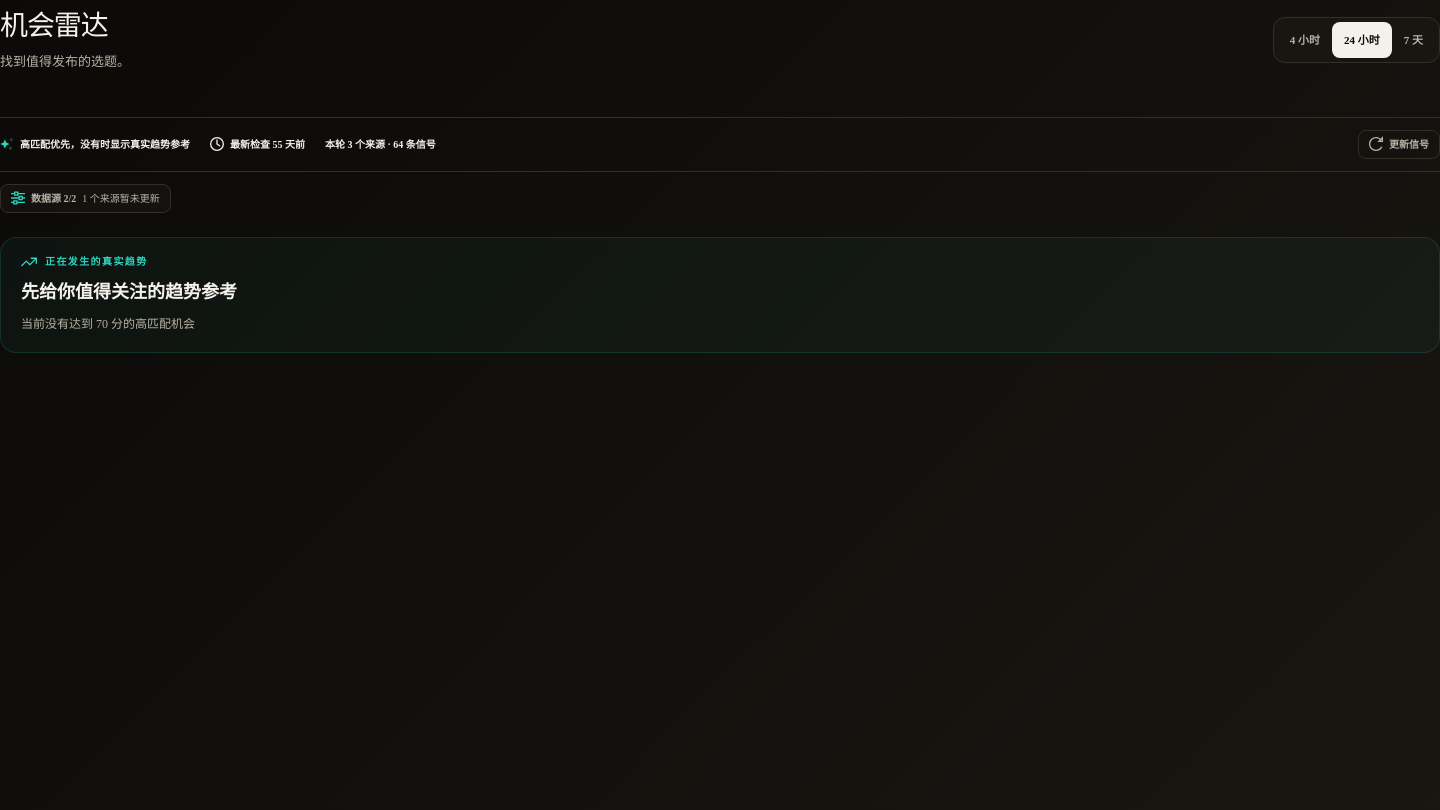
Test case: keeps usable results visible without re-collecting all sources after a partial outage
Expected: the text "1 个来源暂未更新" is shown, x1=82 y1=191 x2=160 y2=206
Click the heading "数据源 2/2 1 个来源暂未更新" at (85, 198), box x1=0 y1=184 x2=171 y2=213
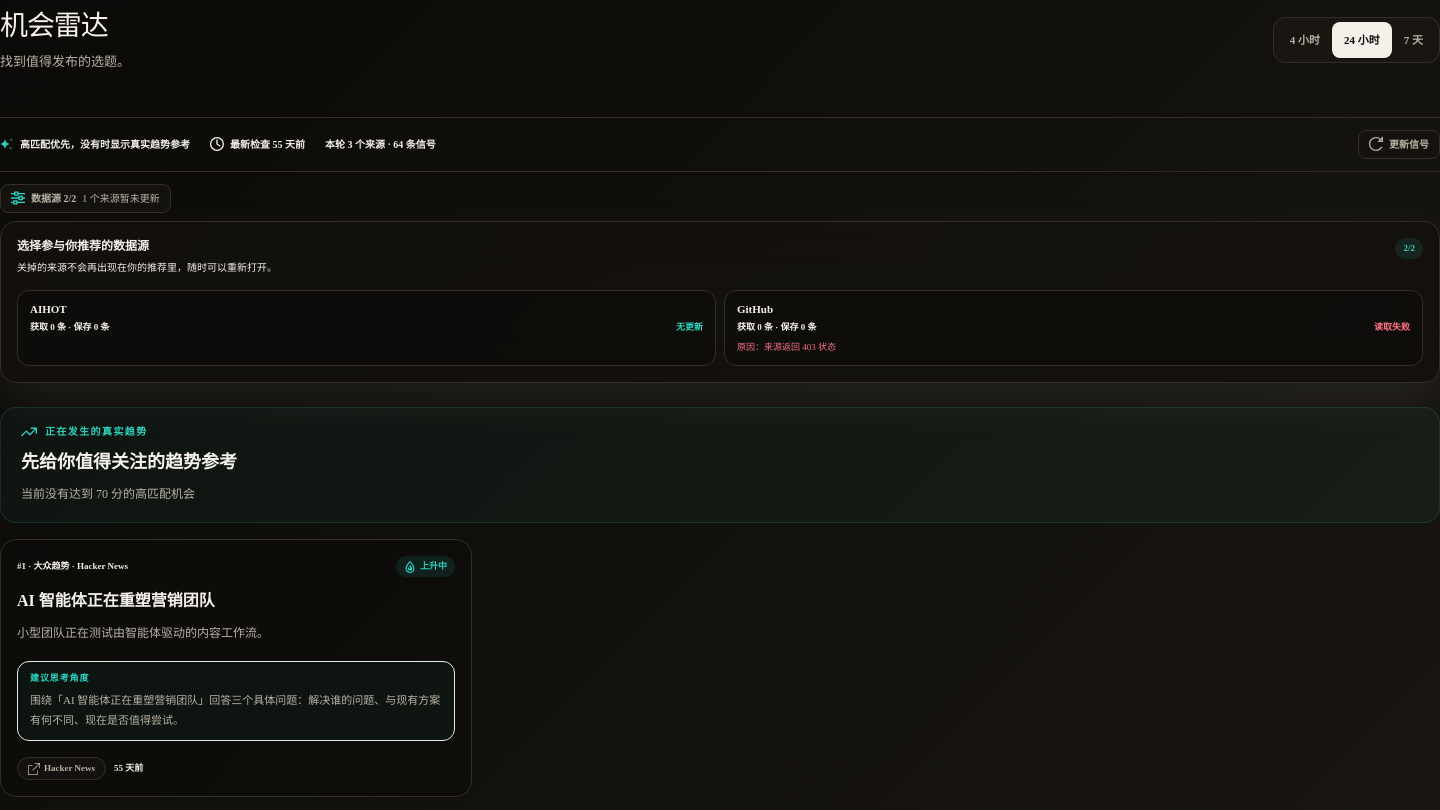
Expected: the text "原因：来源返回 403 状态" is shown, x1=737 y1=342 x2=836 y2=352
